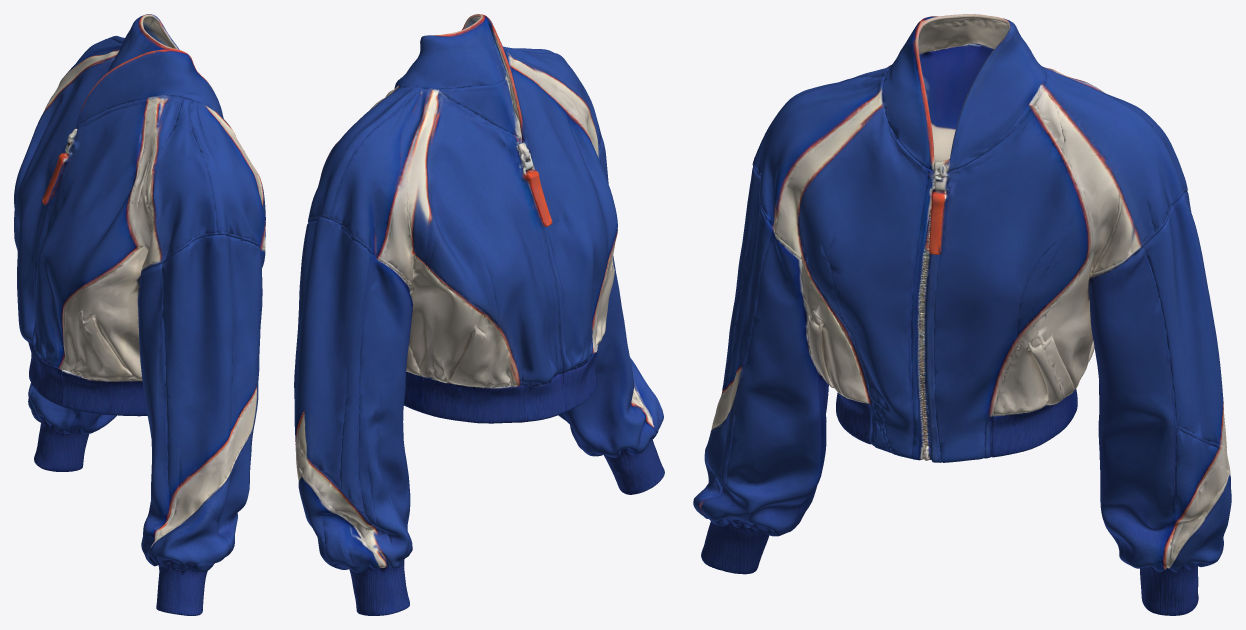
File: arc-jacket-cobalt-web.glb
3 renders of one model, left to right at view 1: azimuth 30°, elevation 25°; view 2: azimuth 150°, elevation 25°; view 3: azimuth 270°, elevation 25°, orthographic. The views are drawn at different scales.
Visible parts, largest first — view 1: tripo_node_ca28e1c6-ce68-4e9b-bcf9-edd8c6aae408; view 2: tripo_node_ca28e1c6-ce68-4e9b-bcf9-edd8c6aae408; view 3: tripo_node_ca28e1c6-ce68-4e9b-bcf9-edd8c6aae408.
Part boxes in pixels (x1,y1,x2,y2): tripo_node_ca28e1c6-ce68-4e9b-bcf9-edd8c6aae408: (14, 14, 265, 615); tripo_node_ca28e1c6-ce68-4e9b-bcf9-edd8c6aae408: (294, 14, 664, 615); tripo_node_ca28e1c6-ce68-4e9b-bcf9-edd8c6aae408: (693, 14, 1231, 615).
Size of the model in its own units: 0.4185 by 0.9798 by 0.8053.
Materials: 1 (1 with a texture image).
